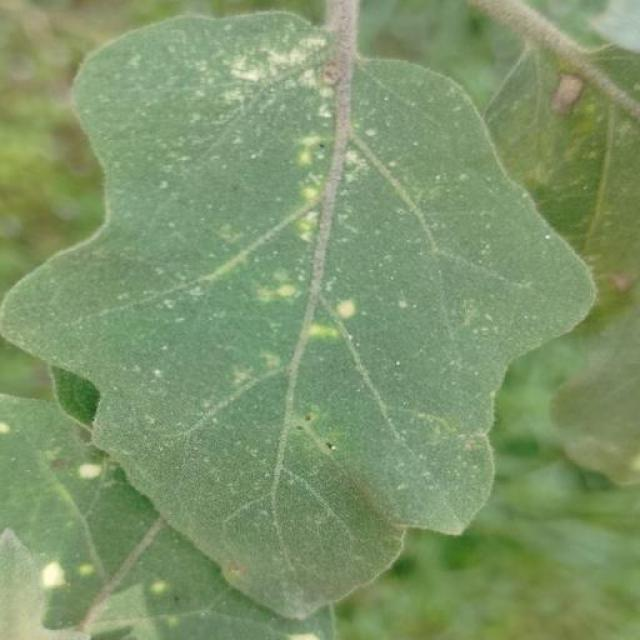leaf_spot: (494, 99, 600, 201), (135, 240, 213, 352), (263, 31, 354, 124), (216, 339, 300, 415), (150, 119, 203, 222), (286, 131, 326, 259), (424, 402, 490, 459), (246, 263, 322, 309), (217, 113, 269, 179), (308, 280, 370, 332), (546, 59, 590, 124), (275, 382, 335, 428), (28, 550, 76, 604), (59, 540, 107, 592), (181, 80, 228, 132), (139, 563, 183, 617), (214, 51, 273, 90), (270, 613, 338, 640), (73, 456, 127, 486), (338, 134, 376, 176), (384, 285, 421, 324), (618, 435, 640, 499), (435, 504, 470, 544), (213, 207, 248, 245), (3, 414, 25, 464), (438, 172, 492, 190), (613, 66, 640, 100)
